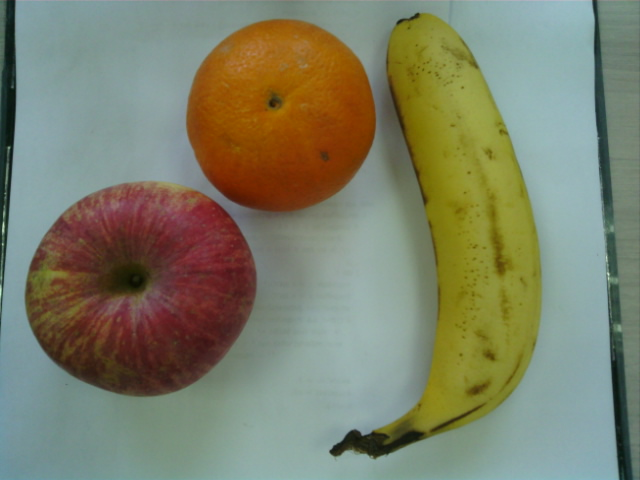normal_apple: (25, 183, 257, 402)
normal_banana: (386, 13, 545, 461)
normal_orange: (186, 20, 378, 211)
